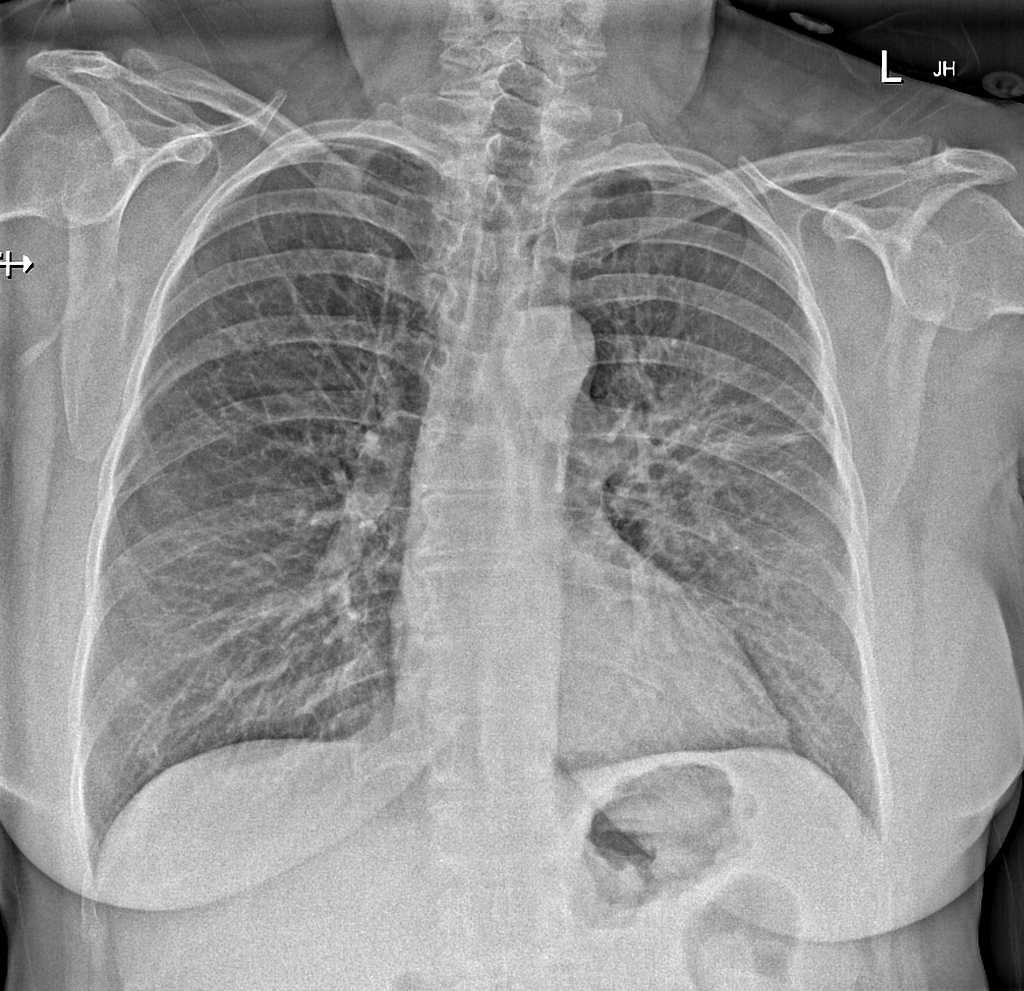cancer: (526, 306, 899, 816), (122, 225, 404, 789)
